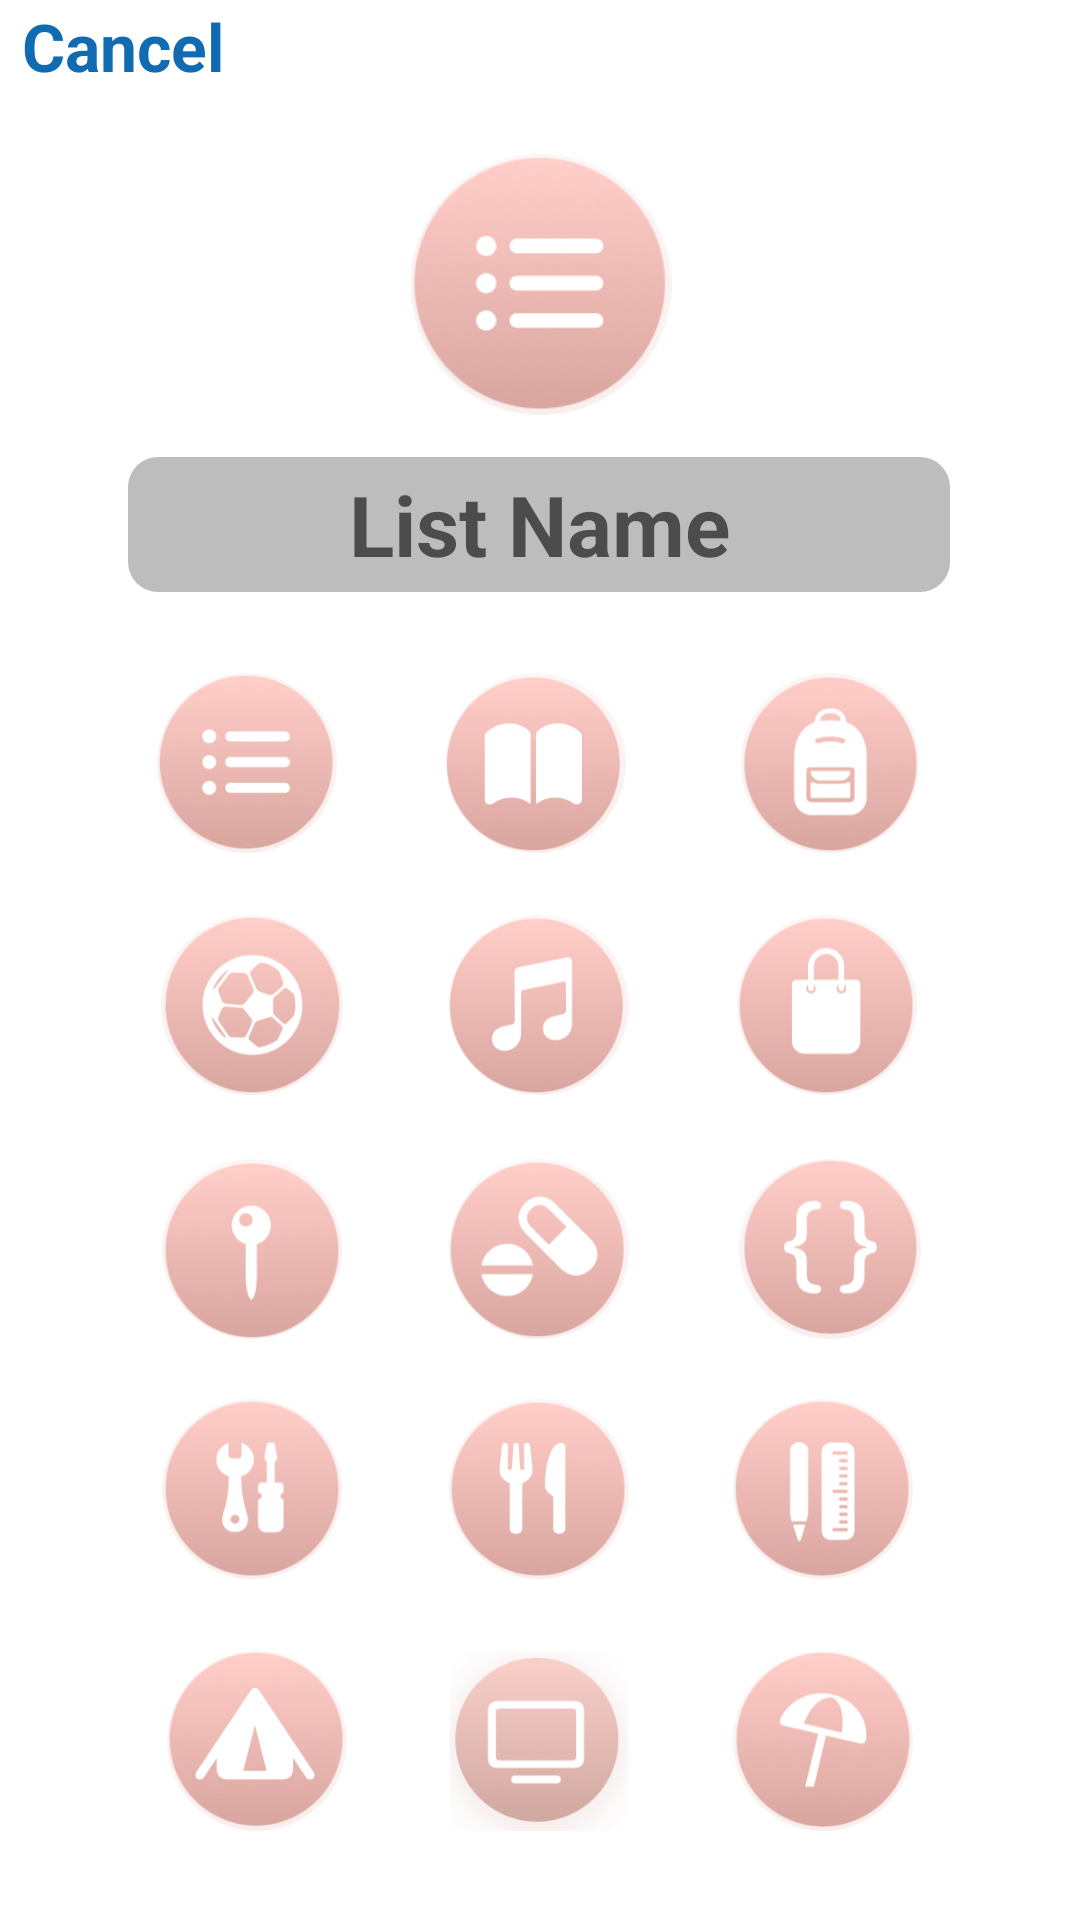

Screen size 1080x1920. Icon name, then its center in pixels as (x=x, y=y):
backpackicon: (x=830, y=764)
bookicon: (x=533, y=764)
codingicon: (x=830, y=1247)
diningicon: (x=538, y=1489)
footballicon: (x=252, y=1005)
listimage: (x=539, y=283), (x=246, y=762)
locationicon: (x=252, y=1250)
medicineicon: (x=537, y=1249)
musicicon: (x=536, y=1005)
repairicon: (x=252, y=1489)
shoppingicon: (x=826, y=1005)
stationaryicon: (x=822, y=1489)
tenticon: (x=256, y=1739)
tvicon: (x=537, y=1740)
umbrellaicon: (x=823, y=1740)
